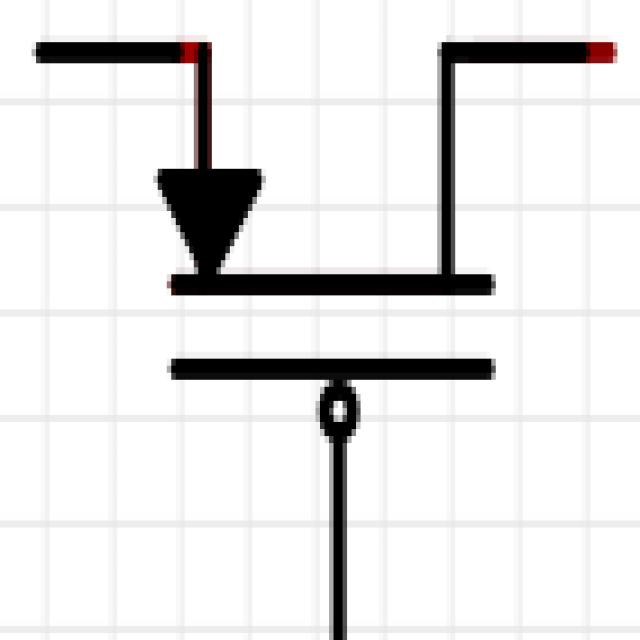pmos: (46, 12, 594, 640)
